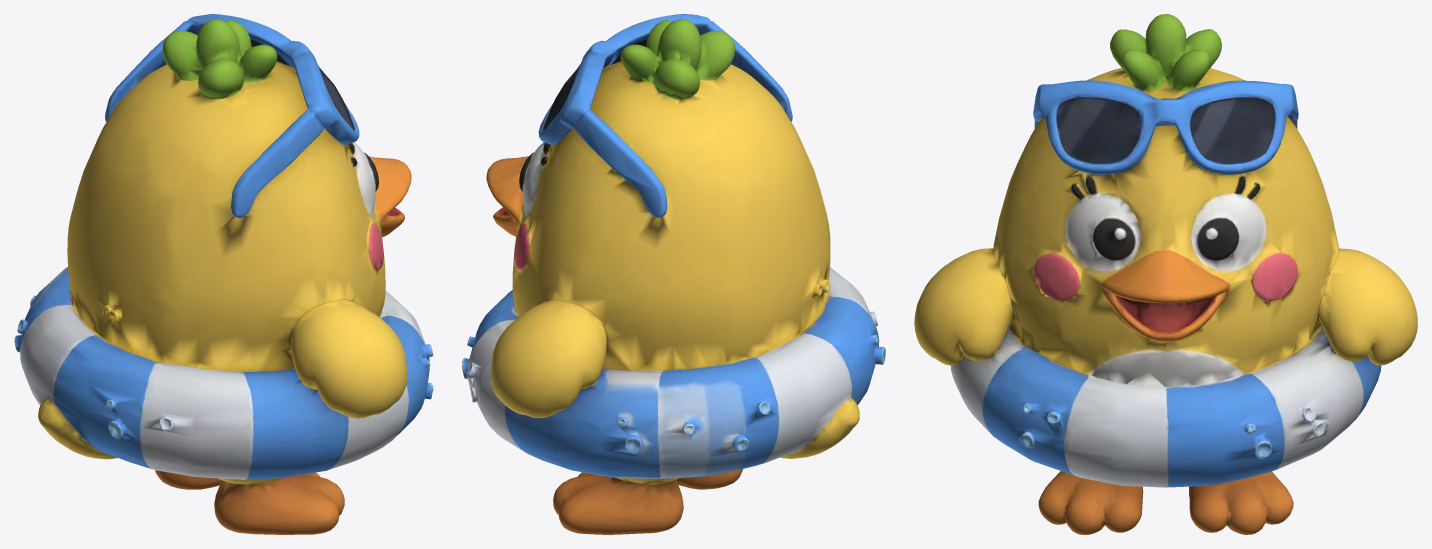
Rendered from summerwoni-plush.glb.
3 renders of one model, left to right at view 1: azimuth 30°, elevation 25°; view 2: azimuth 150°, elevation 25°; view 3: azimuth 270°, elevation 25°, orthographic.
Parts seen in each view (by area): view 1: tripo_node_0b86ab18-9bd1-4f5a-bbfd-c92fae19b9e2; view 2: tripo_node_0b86ab18-9bd1-4f5a-bbfd-c92fae19b9e2; view 3: tripo_node_0b86ab18-9bd1-4f5a-bbfd-c92fae19b9e2.
Part boxes in pixels (<box>): tripo_node_0b86ab18-9bd1-4f5a-bbfd-c92fae19b9e2: <box>14,14,433,534</box>; tripo_node_0b86ab18-9bd1-4f5a-bbfd-c92fae19b9e2: <box>462,14,885,534</box>; tripo_node_0b86ab18-9bd1-4f5a-bbfd-c92fae19b9e2: <box>914,14,1417,534</box>.
Size of the model in its own units: 0.7912 by 0.9996 by 0.9435.
1 material, 1 textured.
